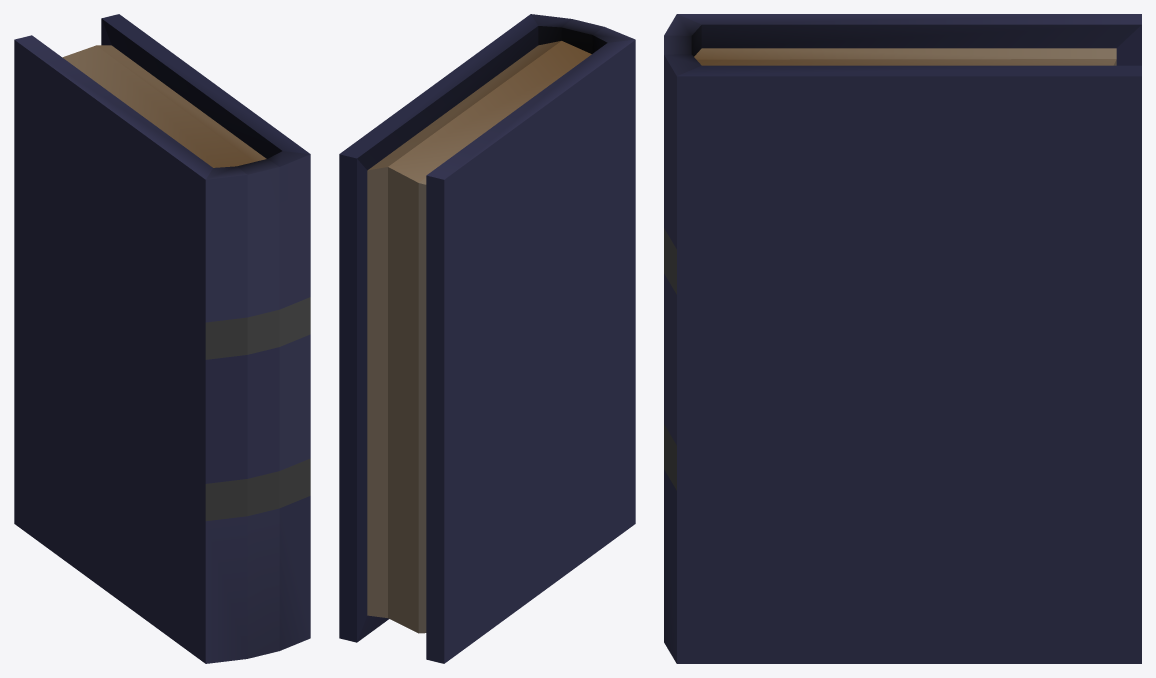
Rendered from Prop_BookB.fbx.
The picture shows the model from 3 angles, left to right: view 1: azimuth 30°, elevation 25°; view 2: azimuth 150°, elevation 25°; view 3: azimuth 270°, elevation 25°; orthographic projection. The views are drawn at different scales.
Parts seen in each view (by area): view 1: Prop_BookB; view 2: Prop_BookB; view 3: Prop_BookB.
Boxes of the visible parts, <box> form: Prop_BookB: <box>14,14,310,663</box>; Prop_BookB: <box>339,14,635,663</box>; Prop_BookB: <box>664,14,1141,663</box>.
Bounding box in the file's own units: 5.89 × 25.92 × 19.11.
